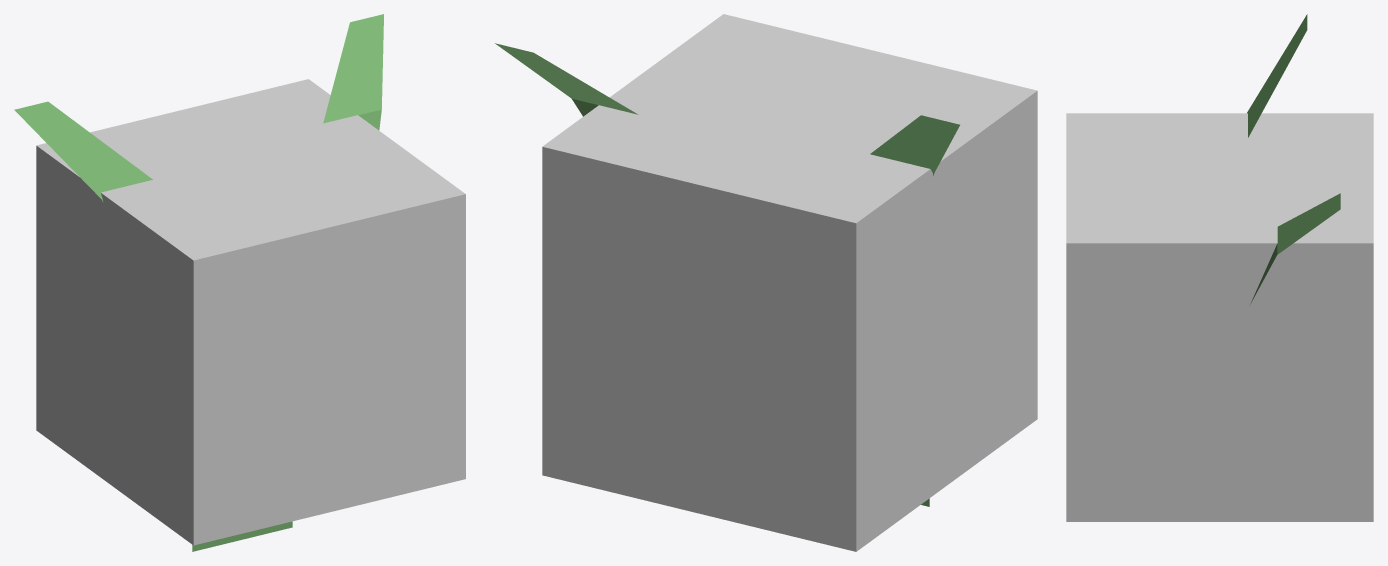
3 renders of one model, left to right at view 1: azimuth 30°, elevation 25°; view 2: azimuth 150°, elevation 25°; view 3: azimuth 270°, elevation 25°, orthographic. The views are drawn at different scales.
Visible parts, largest first — view 1: Cube, Grass; view 2: Cube, Grass; view 3: Cube, Grass.
Boxes of the visible parts, box(x1,y1,x2,y2) form: Cube: box(36, 79, 465, 545); Grass: box(14, 14, 383, 551); Cube: box(542, 14, 1037, 551); Grass: box(495, 43, 959, 506); Cube: box(1066, 113, 1373, 521); Grass: box(1247, 14, 1340, 304).
Bounding box in the file's own units: 1.42 × 1.44 × 1.
